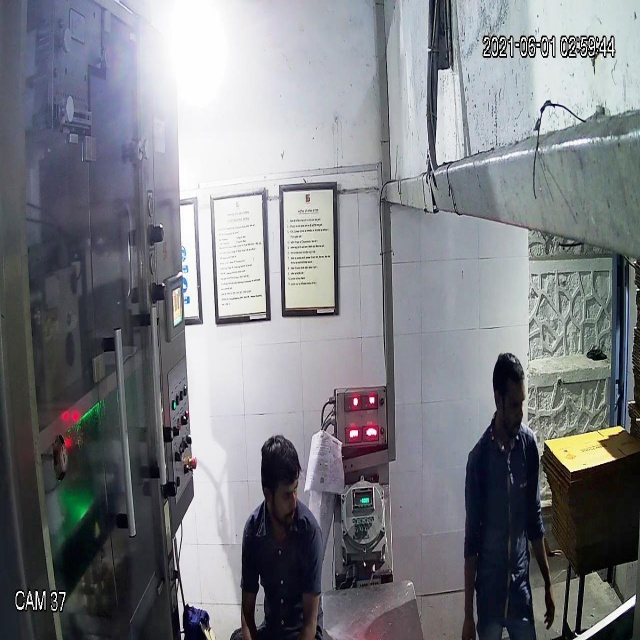Sin_gafas: (263, 477, 302, 509)
